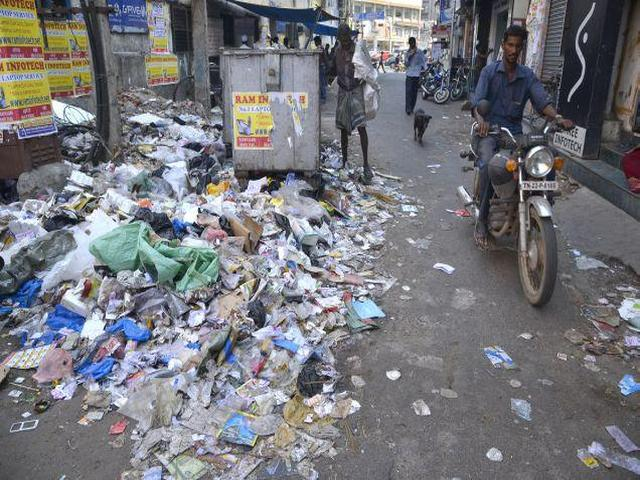garbage: (11, 184, 326, 373)
